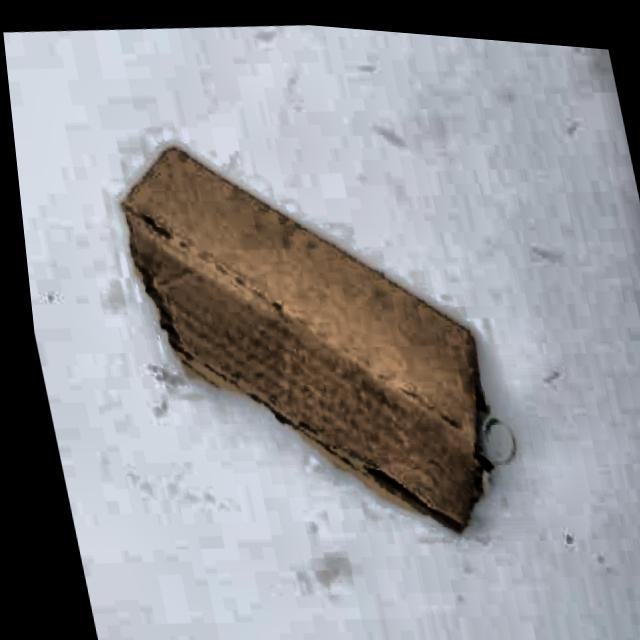Cardbox: (79, 72, 542, 594)
